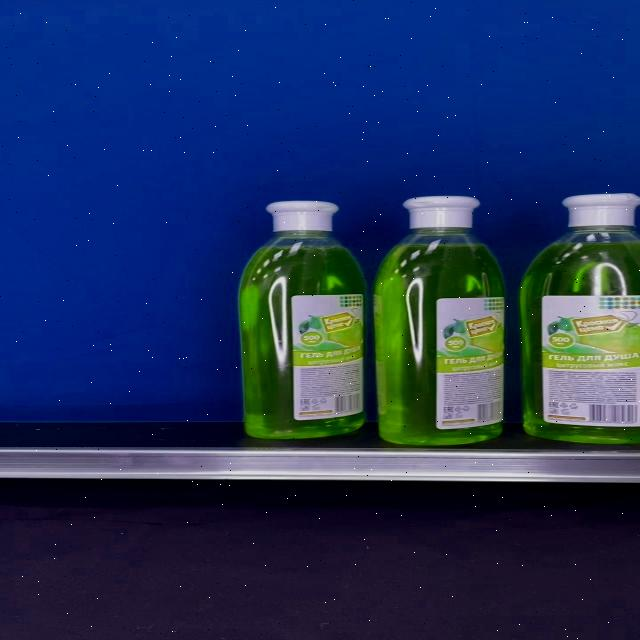Bottle: (374, 196, 506, 445), (520, 192, 640, 444), (239, 200, 364, 439)
Cap: (563, 194, 640, 228), (402, 197, 480, 229), (266, 200, 340, 232)
